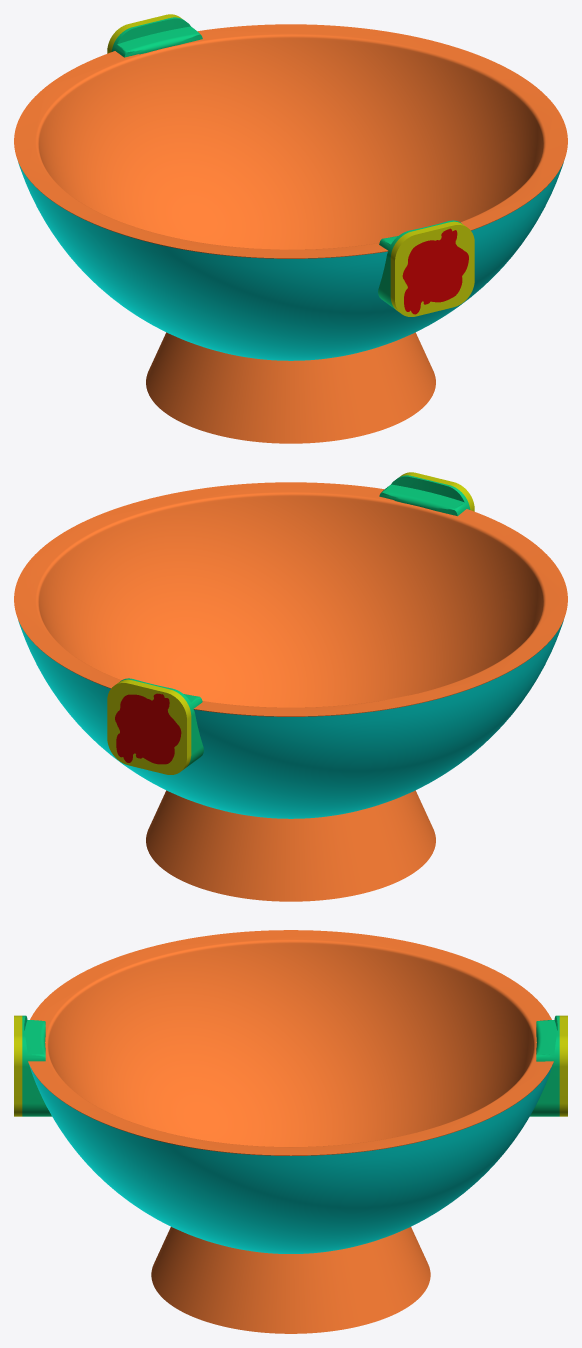
The model's file is cooler.dae.
3 views of the same model, one above another, from view 1: azimuth 30°, elevation 25°; view 2: azimuth 150°, elevation 25°; view 3: azimuth 270°, elevation 25° (orthographic). The views are drawn at different scales.
Visible parts, largest first — view 1: Flaschenkuehler (×2), Röhre, Plakette_1, Griffplatte_1, Griff, Griff_1; view 2: Flaschenkuehler (×2), Röhre, Plakette, Griffplatte, Griff_1, Griff; view 3: Flaschenkuehler (×2), Röhre, Griff, Griff_1, Griffplatte, Griffplatte_1.
Part boxes in pixels (bbox=[...]): Flaschenkuehler (×2): bbox=[14, 24, 567, 360]; Röhre: bbox=[146, 332, 435, 443]; Plakette_1: bbox=[402, 228, 468, 314]; Griffplatte_1: bbox=[390, 221, 474, 316]; Griff: bbox=[111, 17, 202, 57]; Griff_1: bbox=[378, 220, 461, 309]; Flaschenkuehler (×2): bbox=[14, 482, 567, 818]; Röhre: bbox=[146, 790, 435, 901]; Plakette: bbox=[115, 693, 181, 764]; Griffplatte: bbox=[107, 679, 191, 774]; Griff_1: bbox=[379, 475, 470, 516]; Griff: bbox=[120, 678, 203, 767]; Flaschenkuehler (×2): bbox=[28, 930, 553, 1253]; Röhre: bbox=[151, 1227, 430, 1333]; Griff: bbox=[530, 1015, 559, 1116]; Griff_1: bbox=[22, 1015, 51, 1116]; Griffplatte: bbox=[559, 1015, 567, 1116]; Griffplatte_1: bbox=[14, 1015, 22, 1116].
Size of the model in its own units: 42.02 by 21.56 by 43.64.
